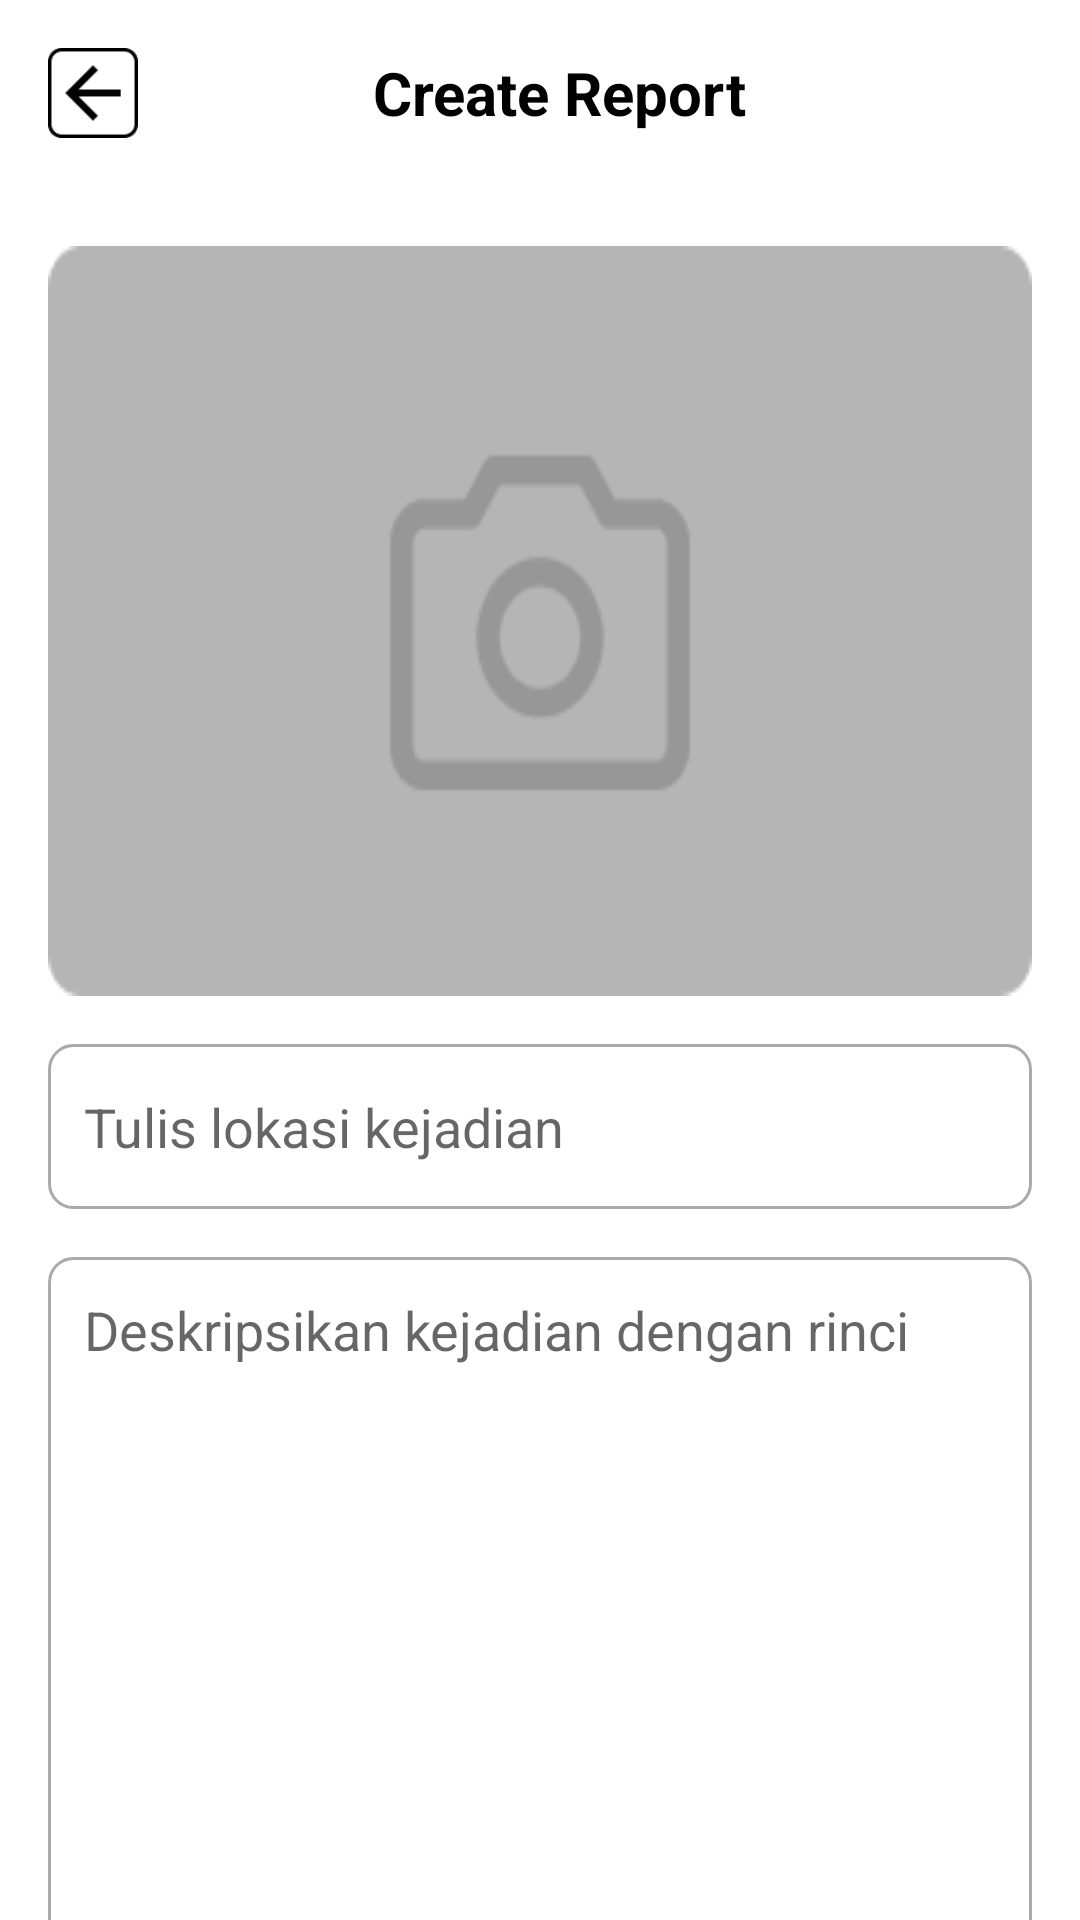

Named icons in this screenshot (1080px×1920px) and their bounding boxes, detection(x1, y1, x2, y2):
Back: detection(48, 48, 138, 138)
